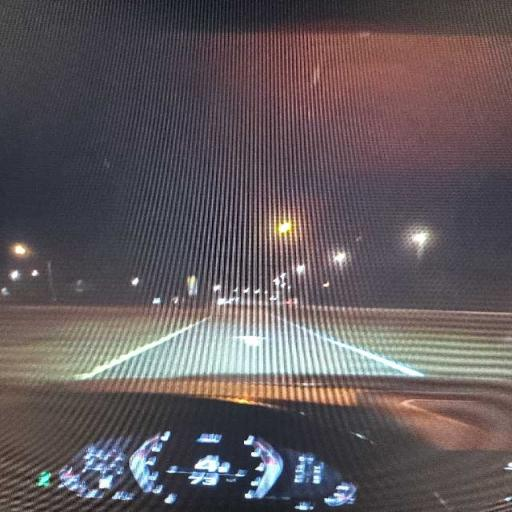lane: (92, 311, 414, 378), (280, 319, 424, 376), (76, 318, 207, 379)
